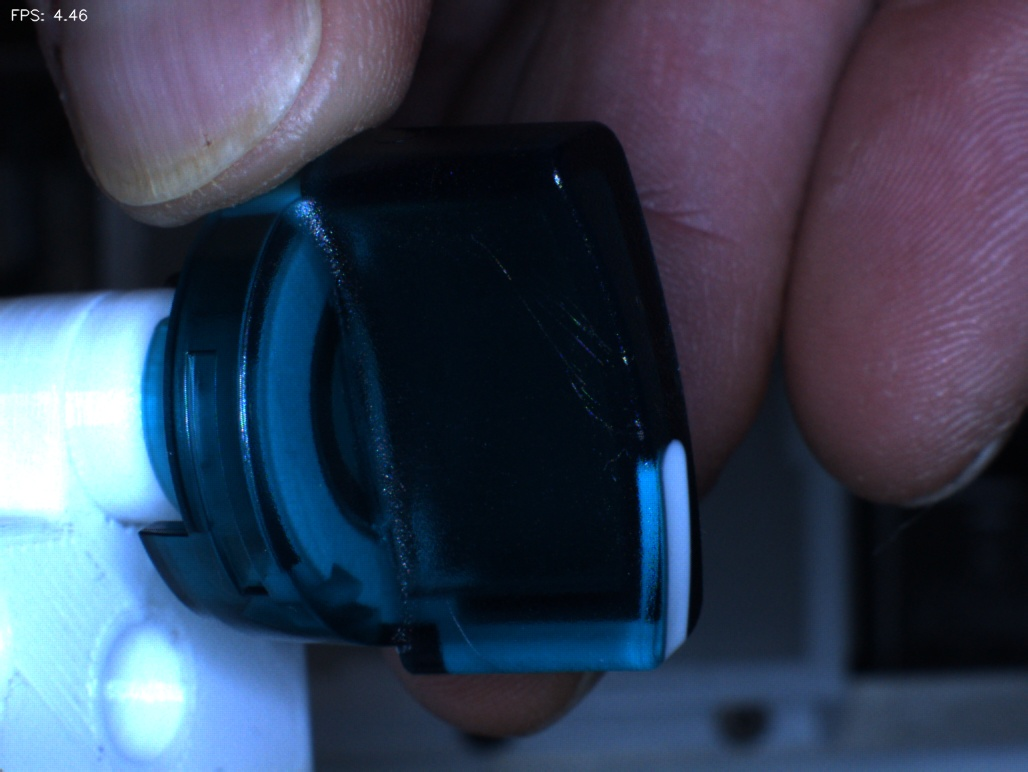Givrage: (470, 225, 629, 454)
